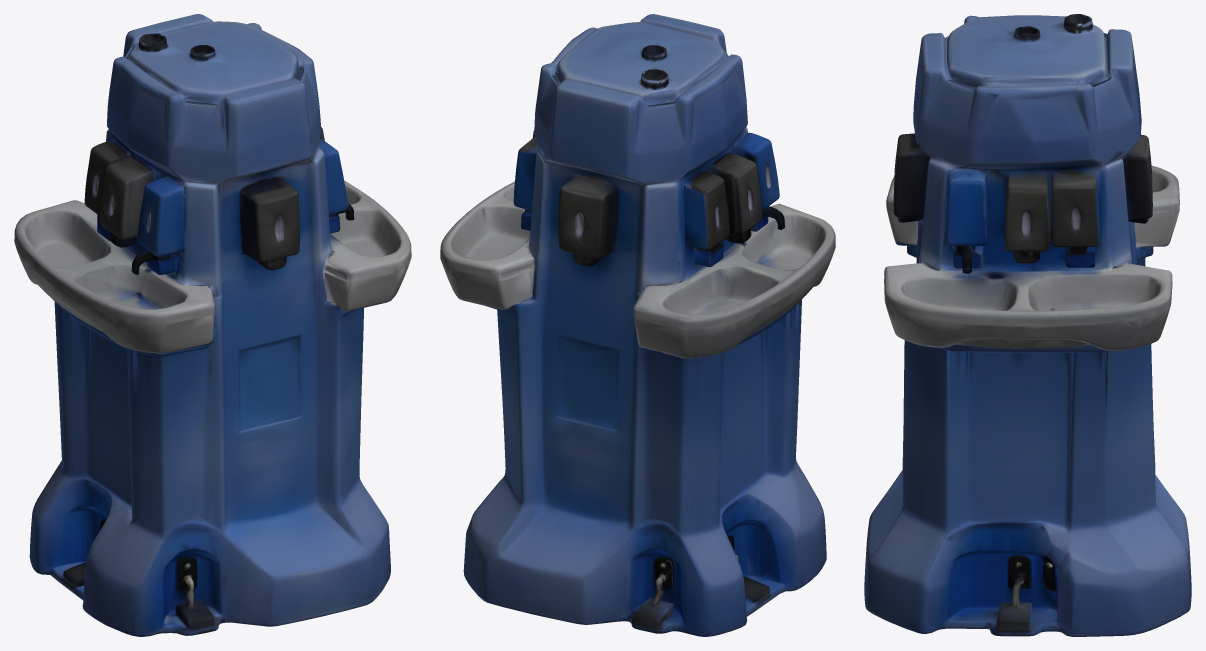
Rendered from washStation.glb.
3 views of the same model, side by side, from view 1: azimuth 30°, elevation 25°; view 2: azimuth 150°, elevation 25°; view 3: azimuth 270°, elevation 25° (orthographic). The views are drawn at different scales.
Parts seen in each view (by area): view 1: node_0.002; view 2: node_0.002; view 3: node_0.002.
Part boxes in pixels (bbox=[...]): node_0.002: bbox=[14, 14, 411, 636]; node_0.002: bbox=[440, 14, 835, 636]; node_0.002: bbox=[864, 14, 1191, 636].
Size of the model in its own units: 0.6454 by 1.01 by 0.5584.
Materials: 1 (1 with a texture image).
